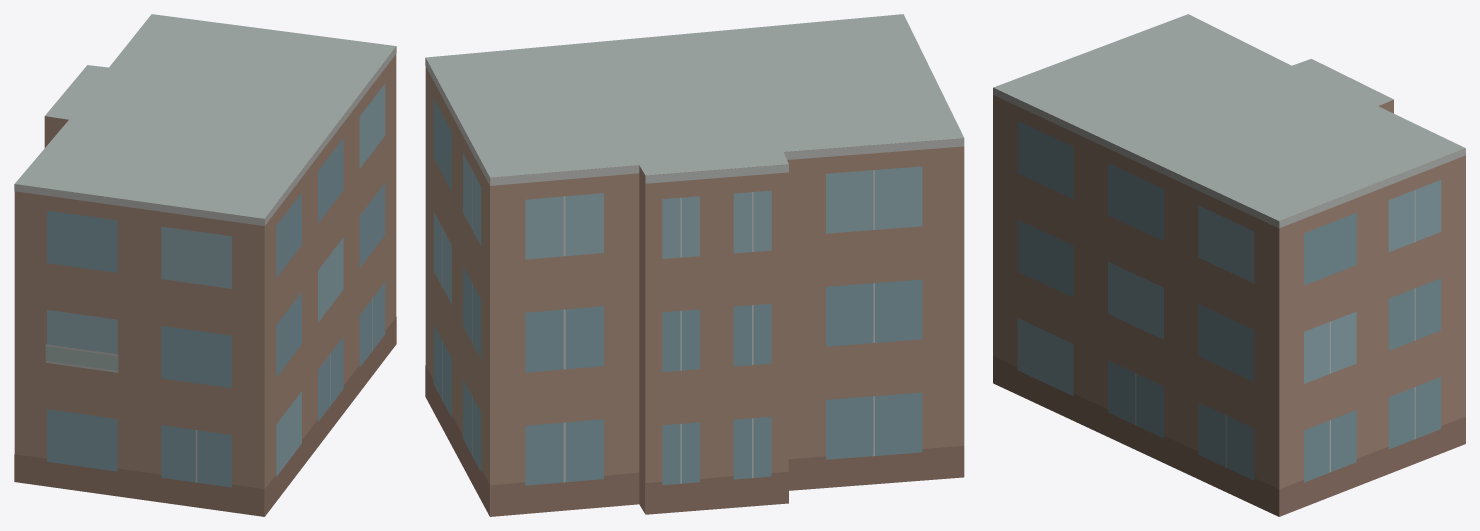
Rendered from survey-upis-32938793.glb.
The picture shows the model from 3 angles, left to right: view 1: azimuth 30°, elevation 25°; view 2: azimuth 150°, elevation 25°; view 3: azimuth 270°, elevation 25°; orthographic projection. The views are drawn at different scales.
Visible parts, largest first — view 1: survey-upis-32938793.tmp; view 2: survey-upis-32938793.tmp; view 3: survey-upis-32938793.tmp.
Boxes of the visible parts, left/top/right/bottom form: survey-upis-32938793.tmp: left=14, top=14, right=396, bottom=516; survey-upis-32938793.tmp: left=425, top=14, right=964, bottom=516; survey-upis-32938793.tmp: left=993, top=14, right=1465, bottom=516.
Size of the model in its own units: 15.03 by 10 by 14.49.
